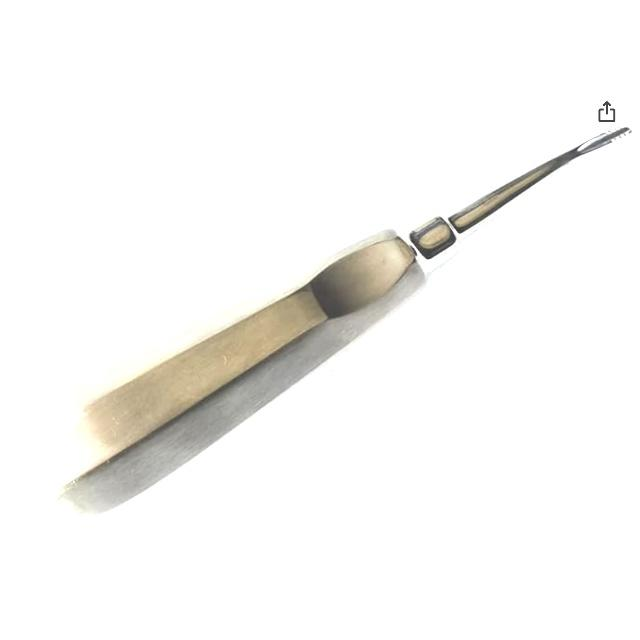botador: (43, 125, 635, 520)
